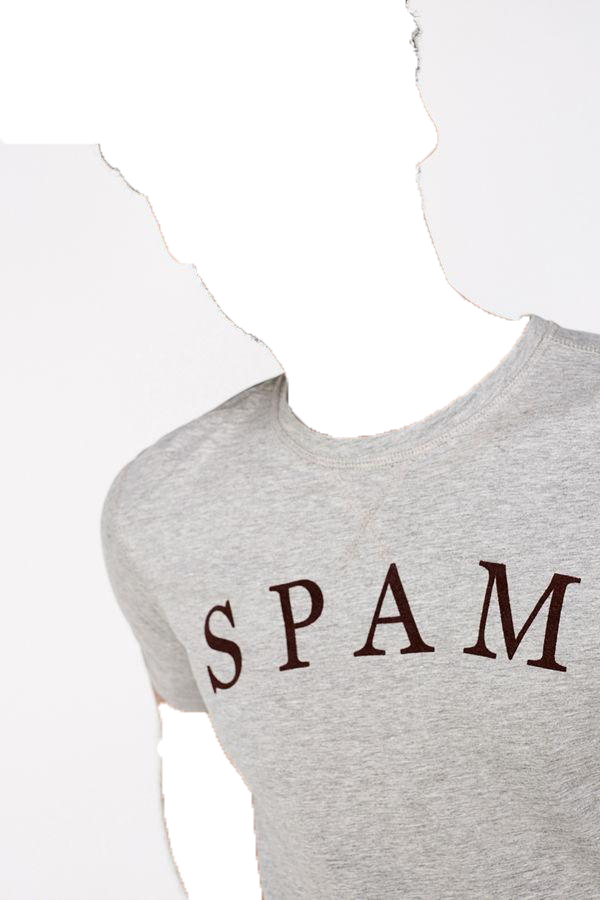teeshirt: (92, 315, 600, 895)
